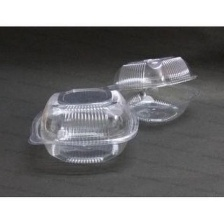plastic_box: (21, 79, 146, 172), (101, 49, 202, 130)
